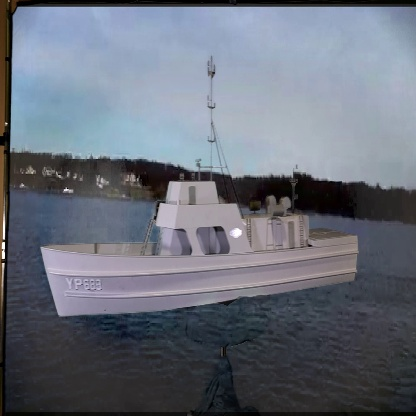YP689: (38, 54, 358, 319)
